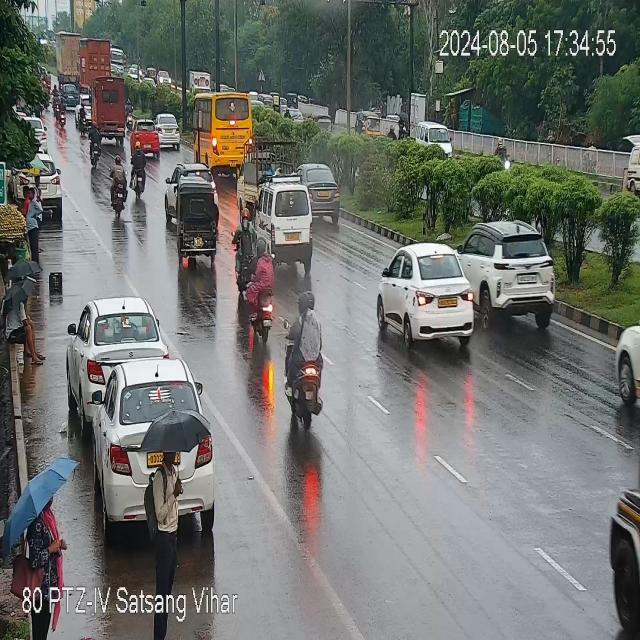2-wheelers: (286, 280, 341, 446), (238, 245, 290, 356), (231, 198, 256, 284), (110, 146, 132, 237), (128, 140, 149, 202), (86, 124, 104, 170), (56, 95, 70, 135), (49, 85, 61, 117)
auto: (173, 175, 220, 274), (356, 100, 382, 135)
bus: (195, 75, 268, 180)
car: (98, 378, 218, 528), (464, 198, 562, 356), (382, 238, 470, 368), (71, 302, 160, 424), (600, 425, 640, 617), (258, 175, 321, 283), (163, 146, 227, 244), (610, 302, 640, 432), (301, 161, 342, 230), (31, 152, 65, 225), (155, 96, 186, 165), (419, 105, 454, 154), (617, 116, 640, 189), (134, 117, 159, 163), (28, 104, 50, 155), (152, 62, 182, 89)
pedestrian: (141, 424, 202, 584), (5, 454, 78, 584), (8, 280, 41, 356), (24, 182, 53, 262), (13, 256, 46, 303), (33, 172, 48, 224), (21, 182, 33, 214)
truck: (94, 77, 132, 149), (83, 36, 113, 92), (58, 31, 83, 89)
